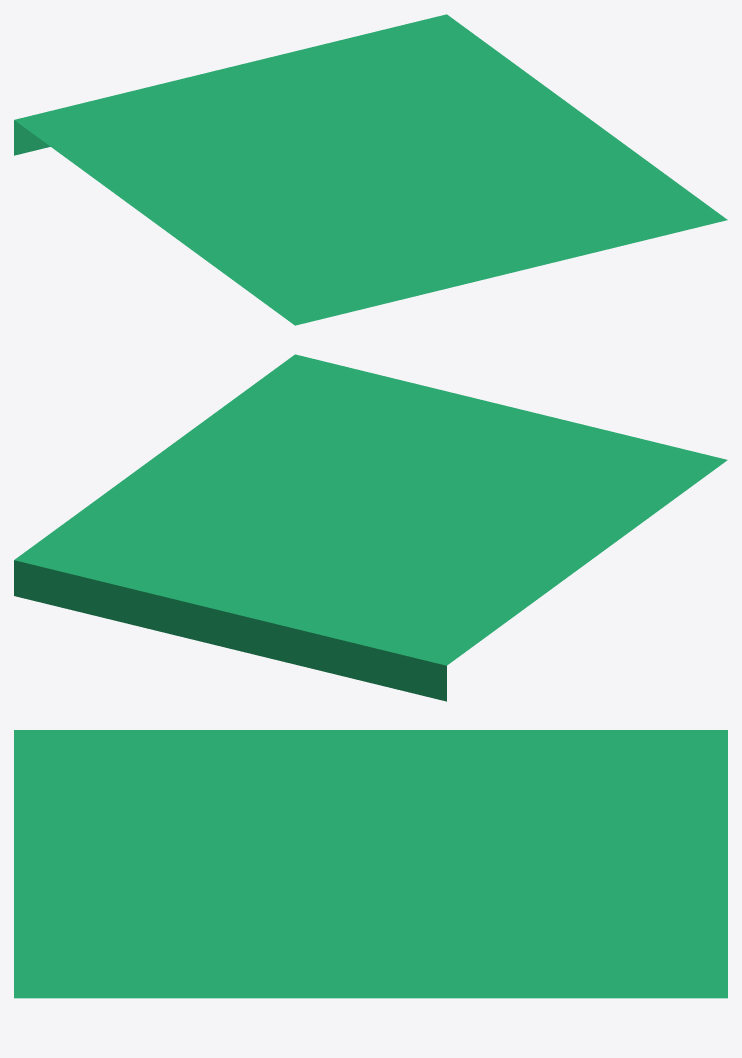
The model's file is End base.FBX.
3 renders of one model, top to bottom at view 1: azimuth 30°, elevation 25°; view 2: azimuth 150°, elevation 25°; view 3: azimuth 270°, elevation 25°, orthographic. The views are drawn at different scales.
Parts seen in each view (by area): view 1: end; view 2: end; view 3: end.
Boxes of the visible parts, bbox=[...] form: end: bbox=[14, 14, 727, 325]; end: bbox=[14, 354, 727, 701]; end: bbox=[14, 730, 727, 998].
Bounding box in the file's own units: 79.99 × 6.33 × 89.99.
